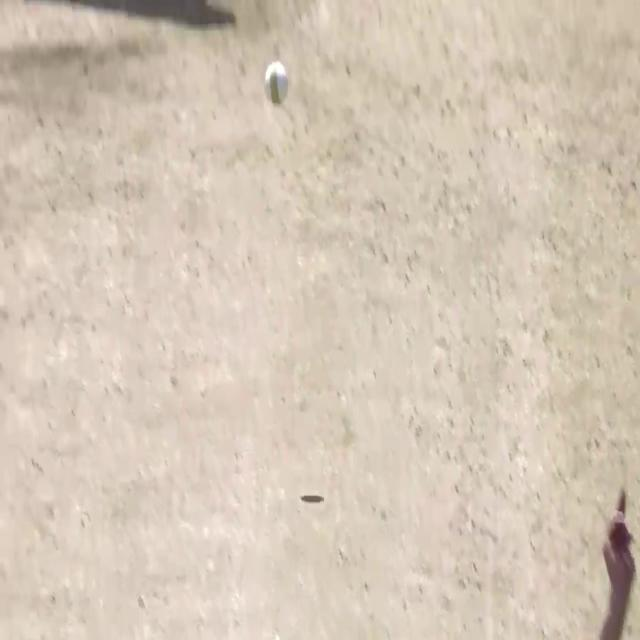ball: (263, 58, 289, 108)
